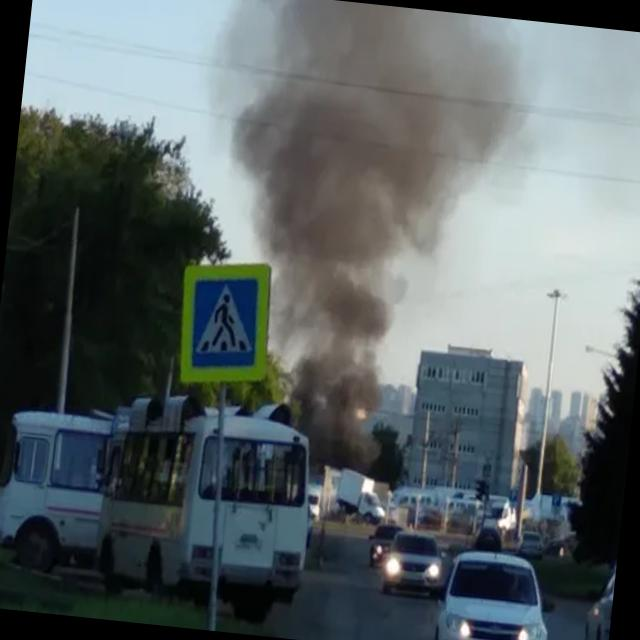Smoke: (204, 0, 530, 438)
